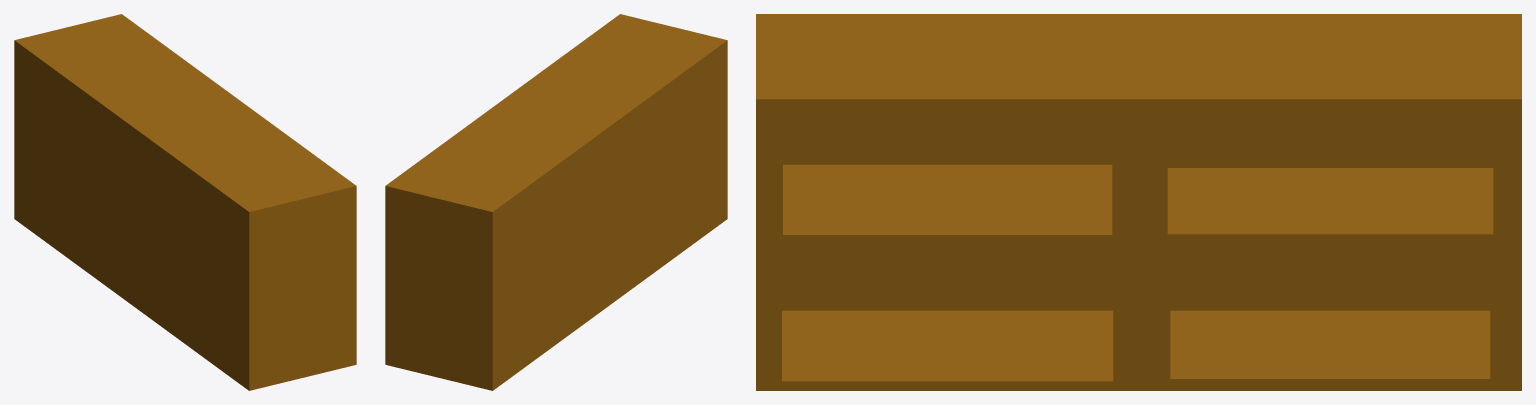
The model's file is shelf 1.fbx.
The picture shows the model from 3 angles, left to right: view 1: azimuth 30°, elevation 25°; view 2: azimuth 150°, elevation 25°; view 3: azimuth 270°, elevation 25°; orthographic projection. The views are drawn at different scales.
Visible parts, largest first — view 1: Cube; view 2: Cube; view 3: Cube.
Boxes of the visible parts, x1,y1,x2,y2 form: Cube: (14, 14, 356, 390); Cube: (385, 14, 727, 390); Cube: (756, 14, 1521, 390).
Size of the model in its own units: 109 by 173 by 413.
